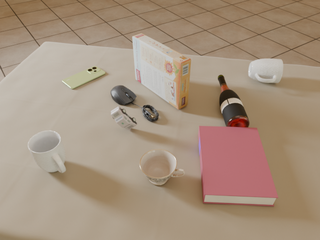book: (198, 126, 278, 206)
bottle: (218, 75, 249, 127)
box: (133, 34, 191, 110)
cup: (140, 149, 185, 185), (28, 131, 66, 173), (249, 59, 283, 83)
mouse: (111, 85, 136, 105)
phone: (62, 66, 105, 89)
toy_car: (111, 107, 138, 130)
